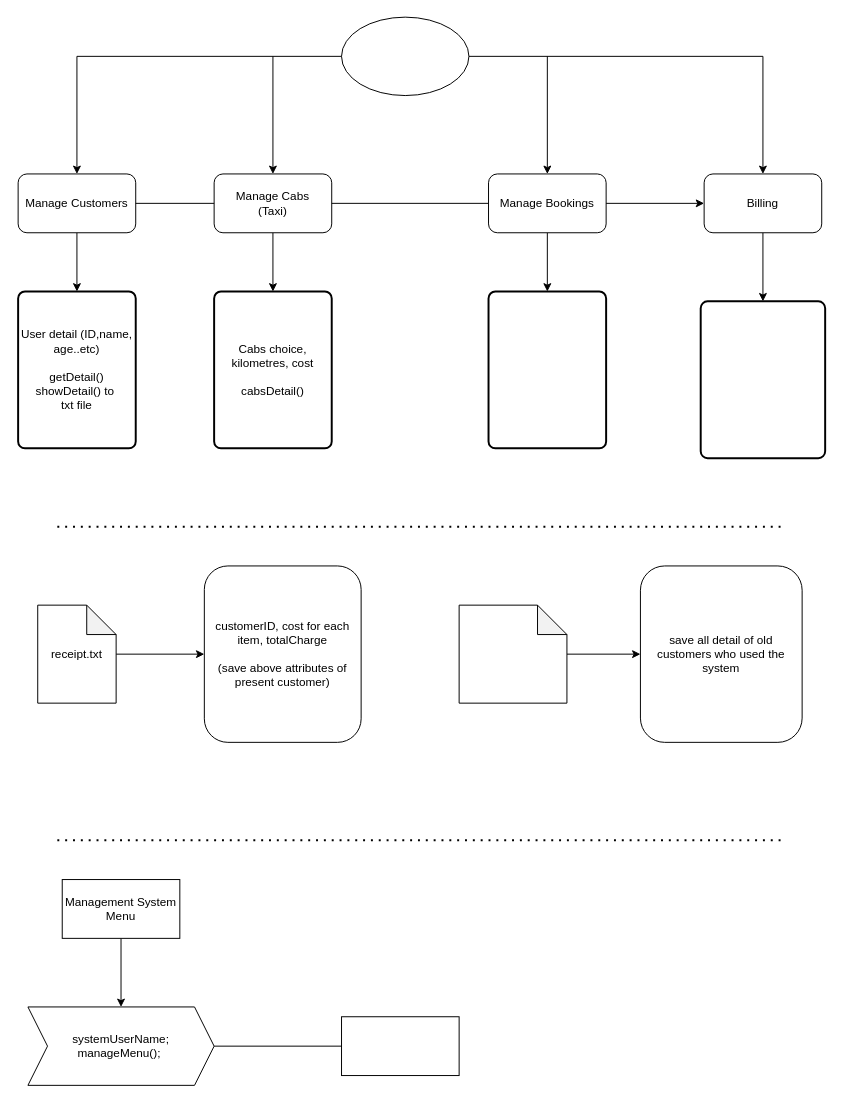
Some shapes in this 843 by 1103 pixel diagram are drawn without their labels. The centre of each missing label's shape, as x and y in pixels:
"cabCharge, hotelCharge, totalCost printBill() - txt file showBill()" goes at (762,379).
"hotelChoice, package, hotel [], cost hotels()" goes at (547,369).
"Main Menu" goes at (400,1046).
"oldCustomers.txt" goes at (512,653).
"Travel Management System" goes at (405,56).
